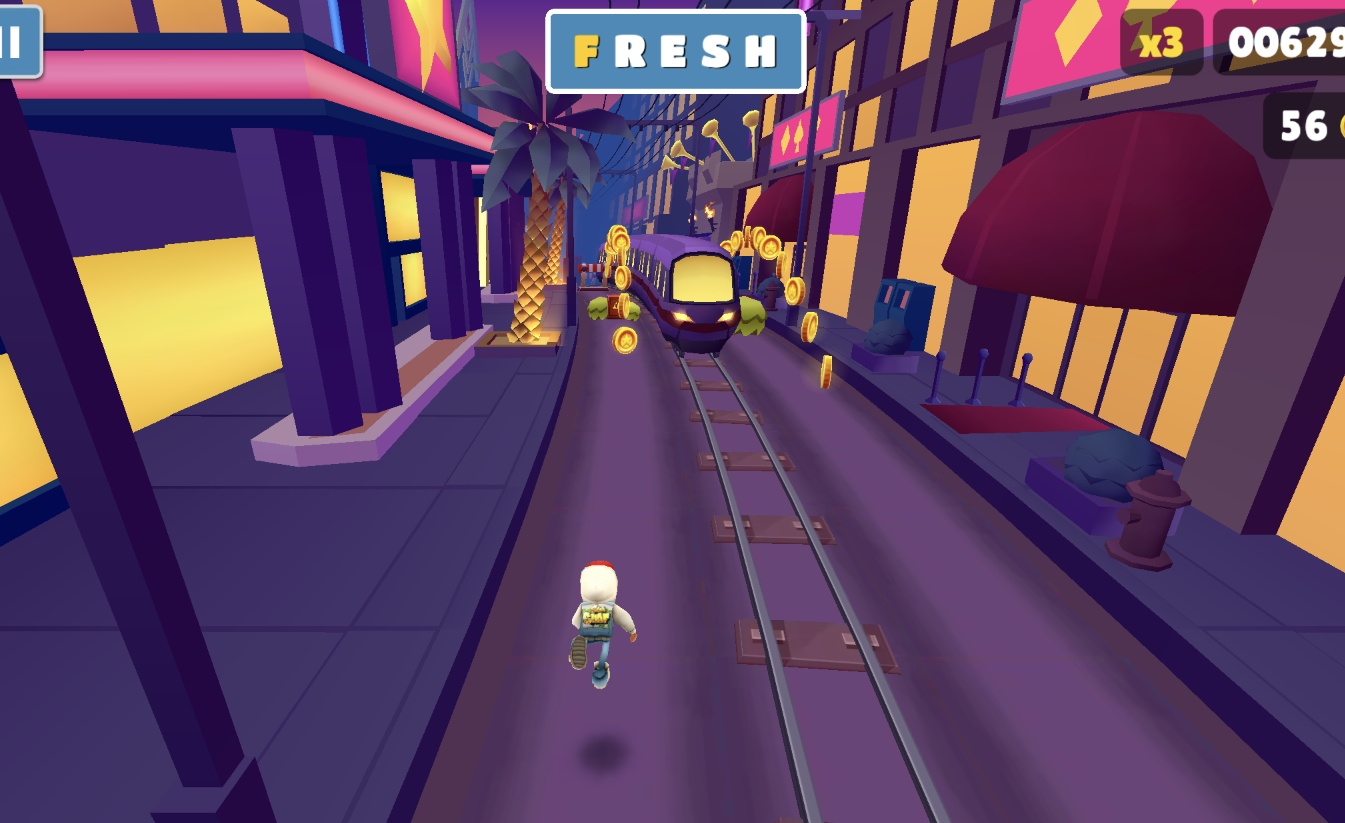bush: (731, 295, 768, 337), (582, 301, 601, 333), (623, 307, 644, 333)
ground_barrier: (574, 259, 607, 292)
small_obstacle: (601, 299, 623, 330)
train: (627, 233, 743, 356)
